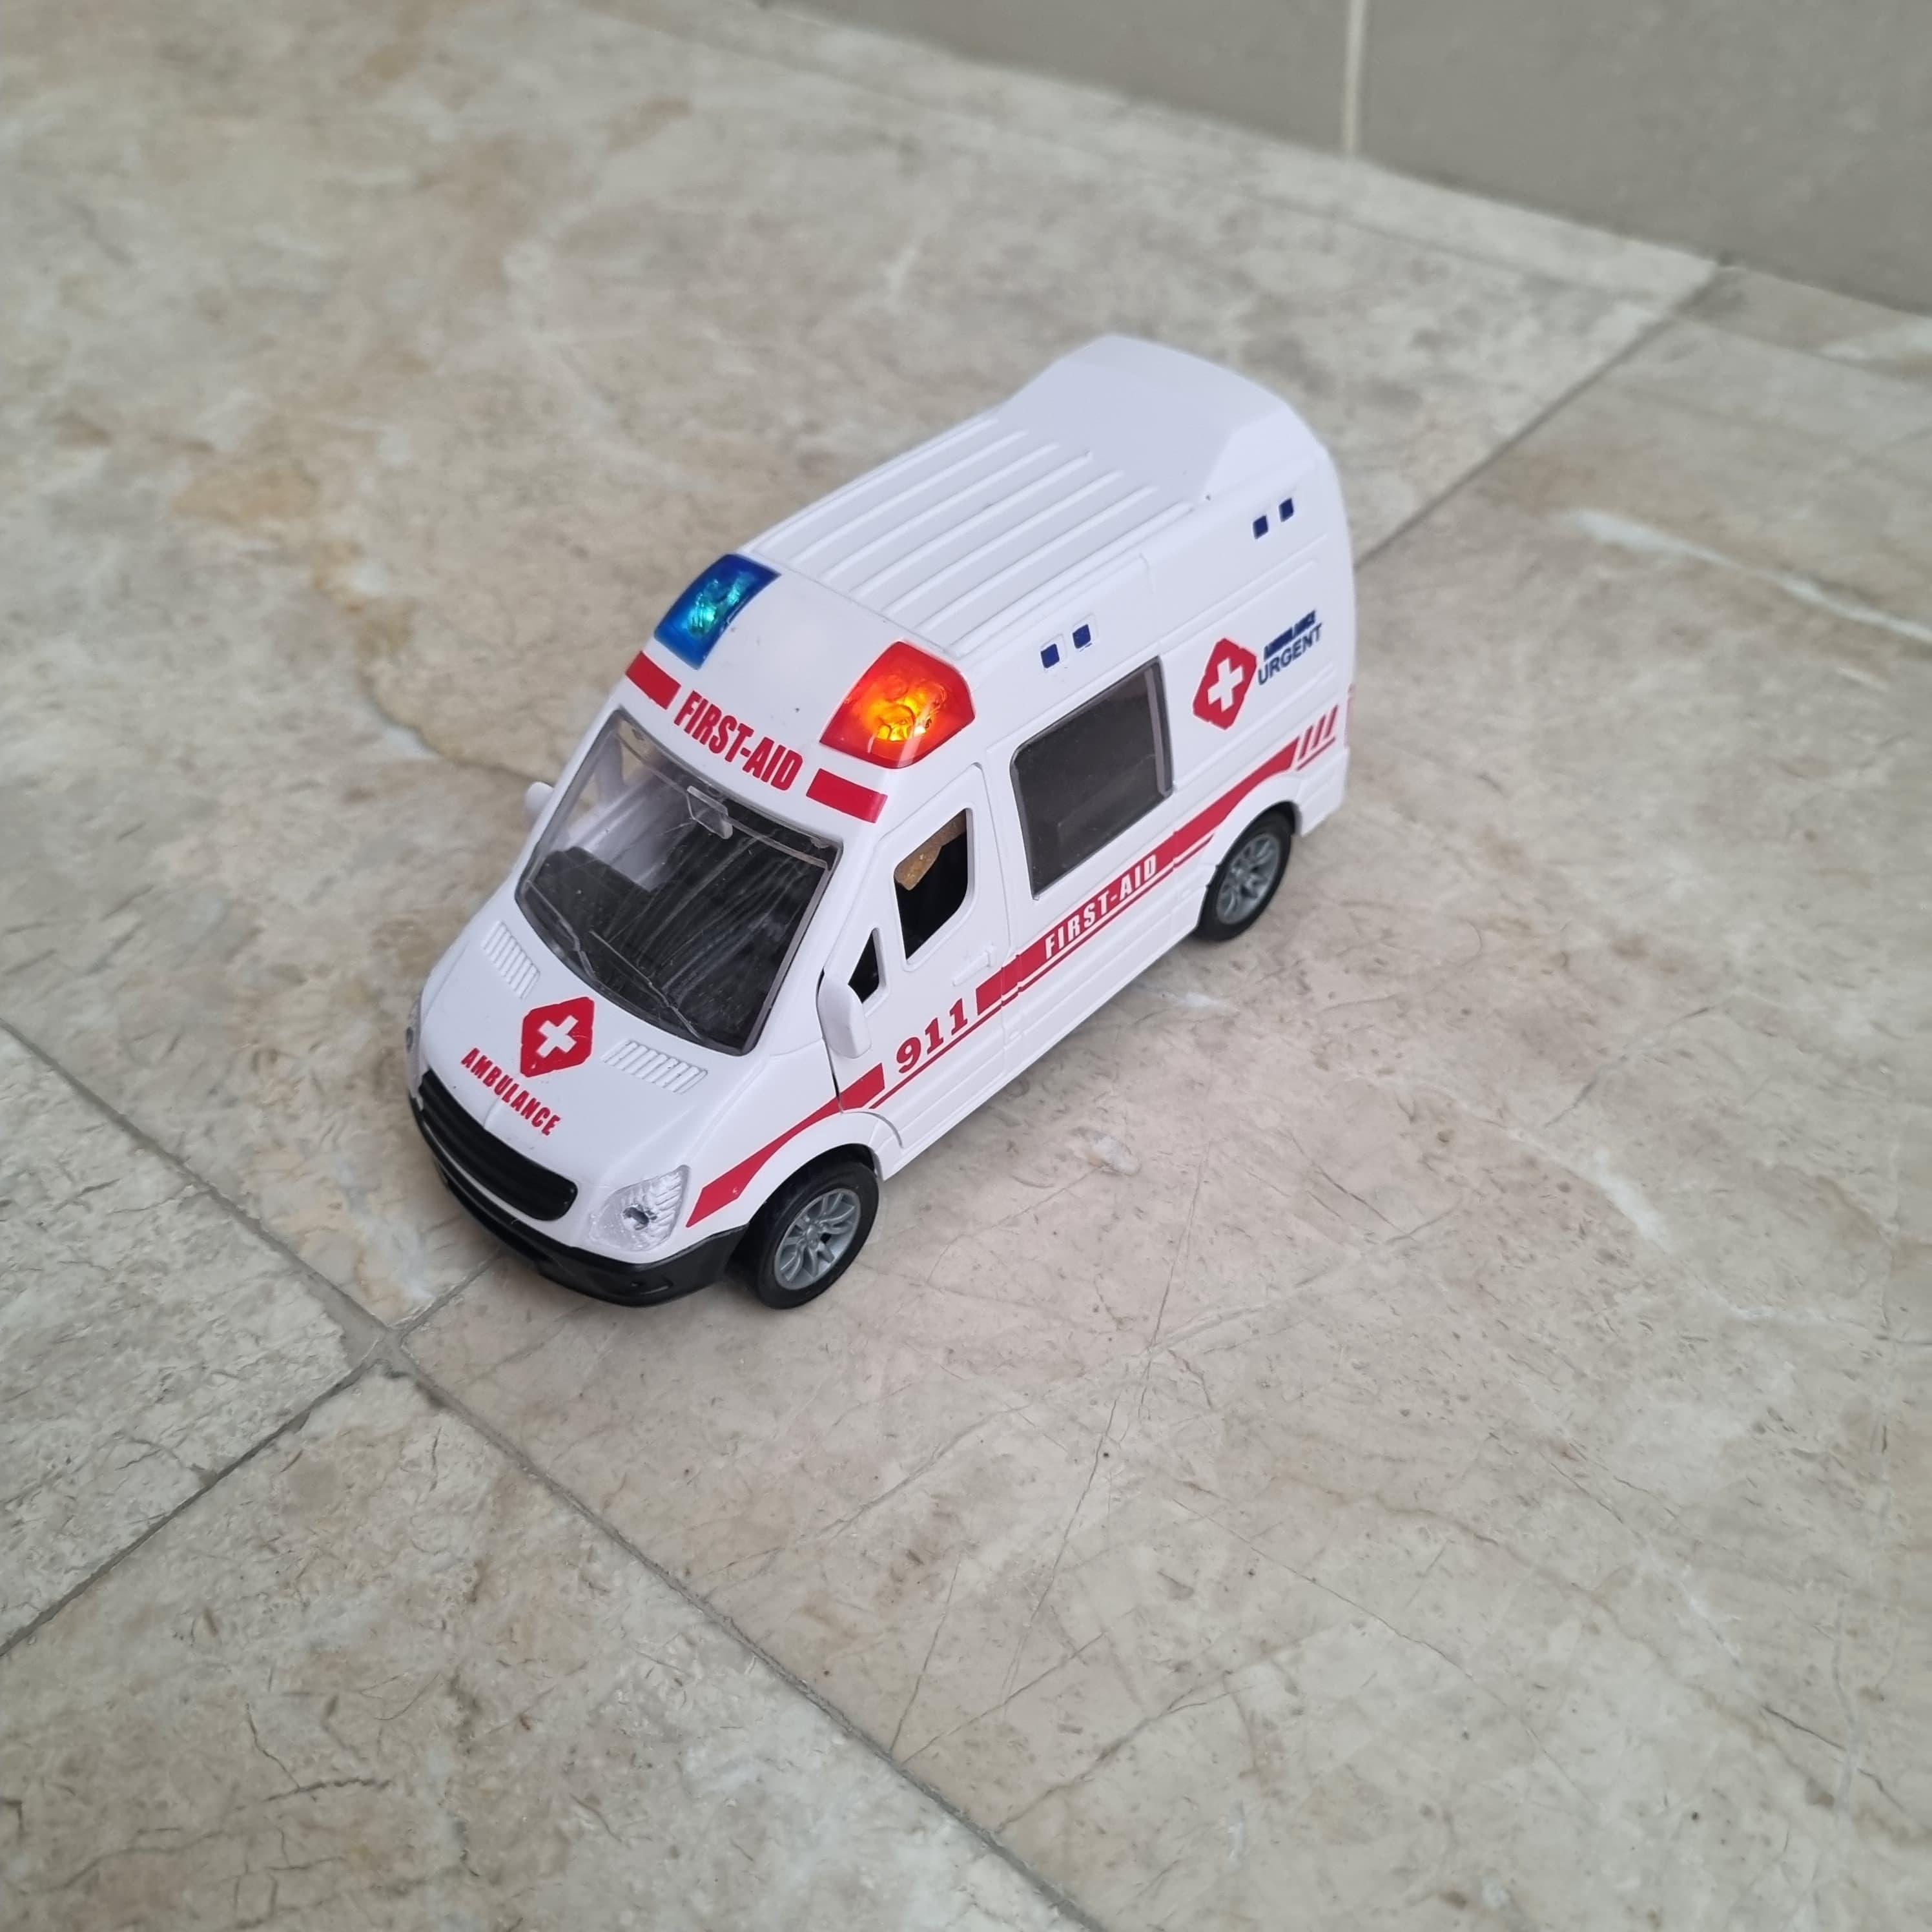ambulance_on: (407, 324, 1357, 1304)
